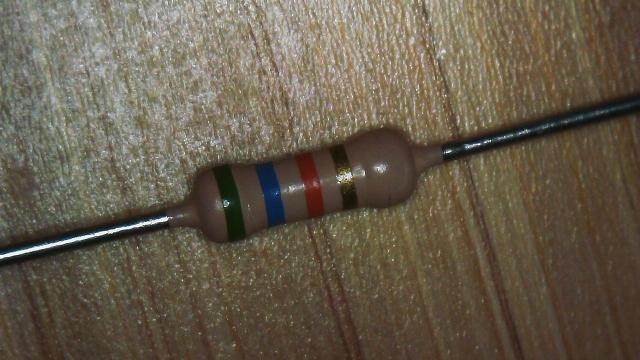blue: (256, 162, 286, 227)
gold: (332, 143, 356, 210)
green: (212, 165, 245, 242)
orange: (296, 152, 324, 218)
resistor: (156, 91, 454, 266)
